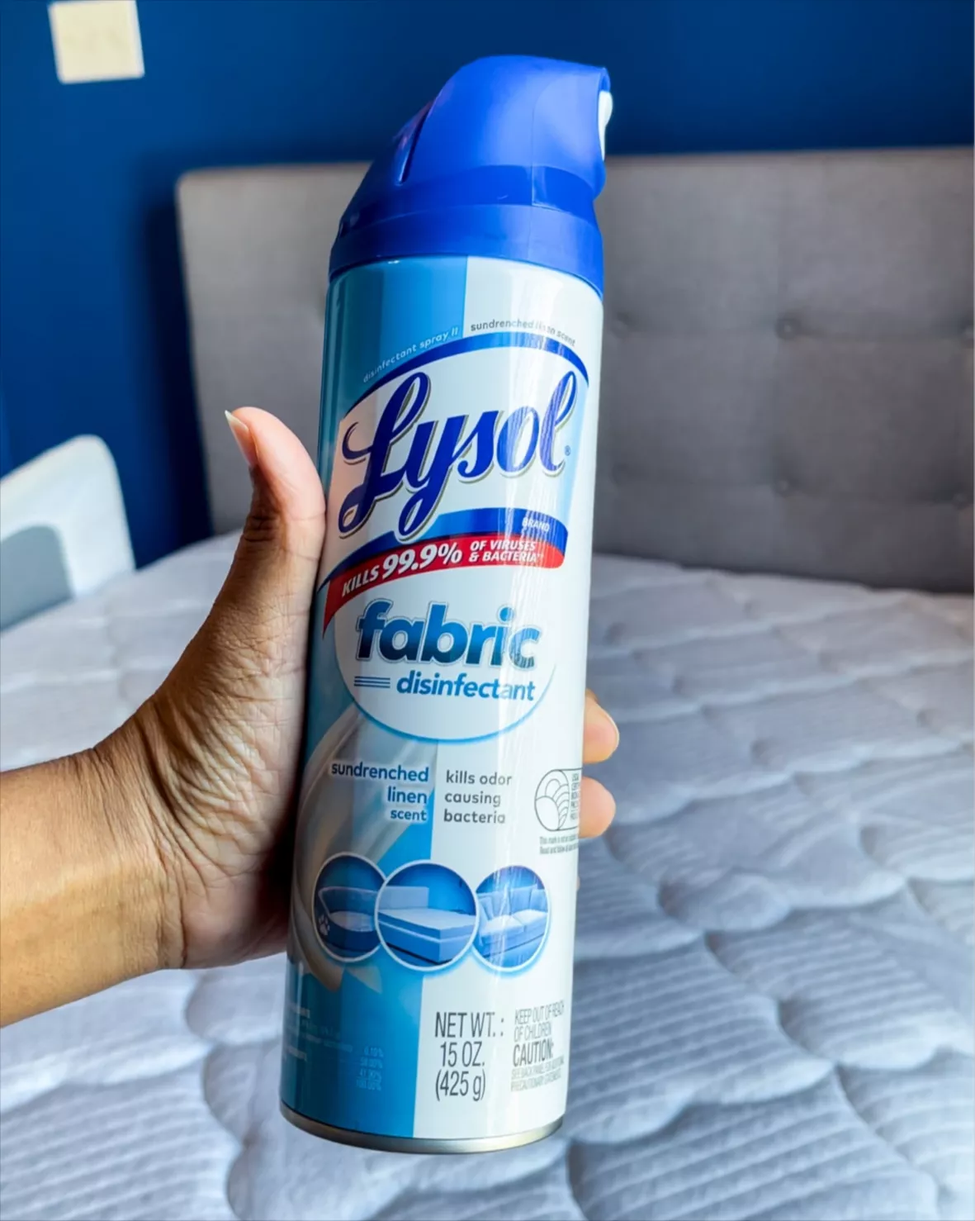toxic_waste: (372, 79, 638, 1125)
